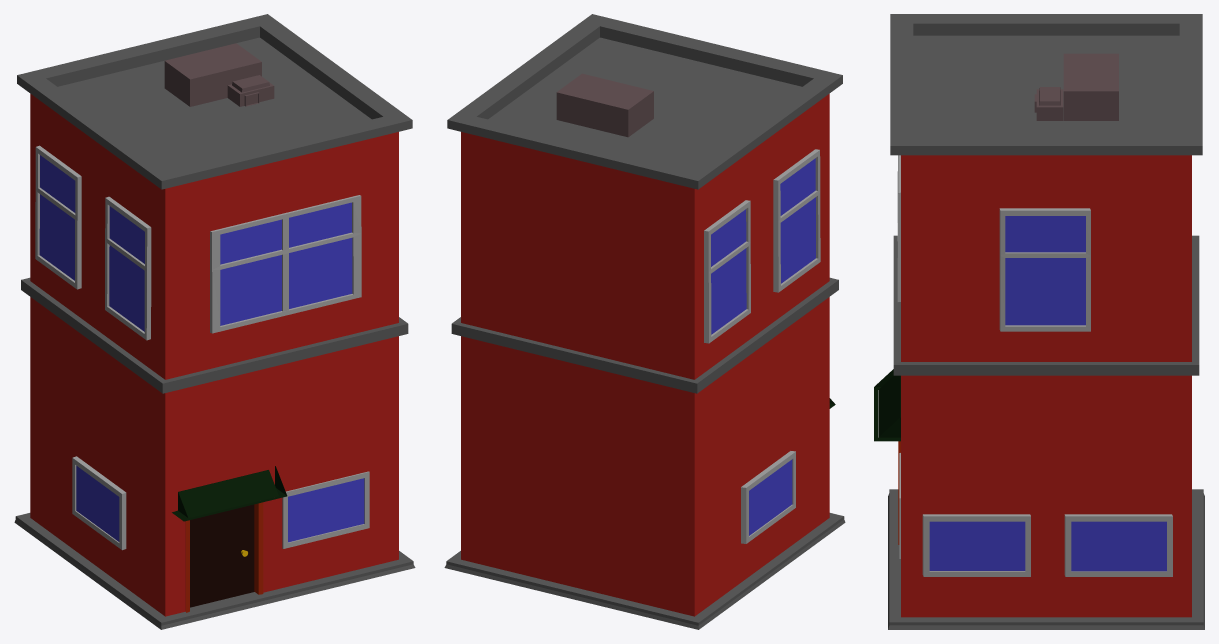
Rendered from building.obj.
The picture shows the model from 3 angles, left to right: view 1: azimuth 30°, elevation 25°; view 2: azimuth 150°, elevation 25°; view 3: azimuth 270°, elevation 25°; orthographic projection. The views are drawn at different scales.
Parts seen in each view (by area): view 1: building; view 2: building; view 3: building.
Part boxes in pixels (x1,y1,x2,y2): building: (14, 14, 415, 629); building: (444, 14, 845, 629); building: (874, 14, 1204, 629).
Size of the model in its own units: 4.89 by 8.52 by 5.1.
